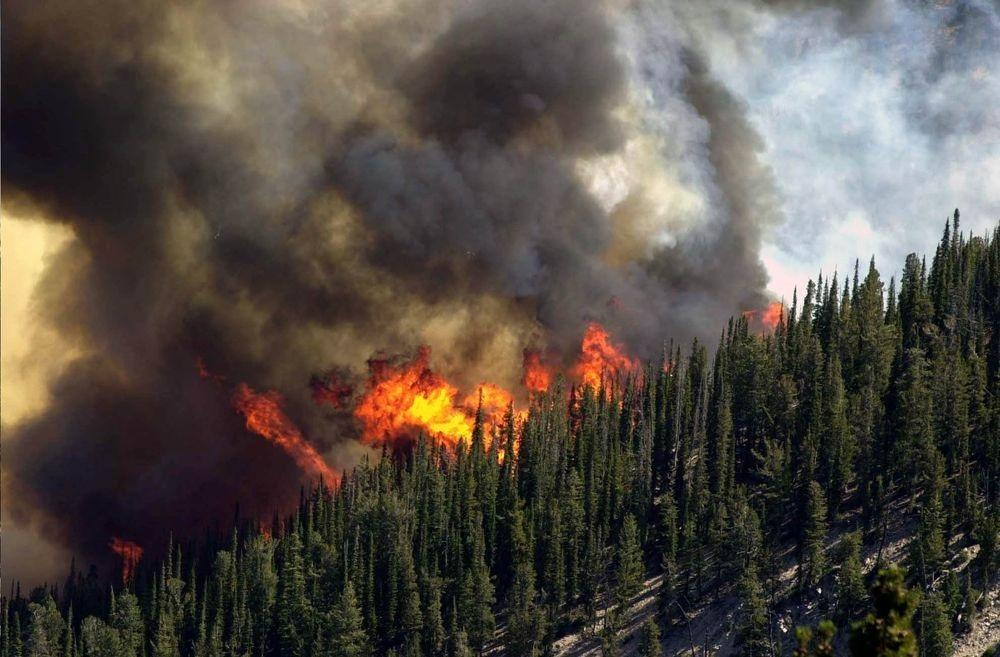fire: (370, 382, 503, 445), (575, 333, 623, 393)
smoke: (302, 18, 597, 292)
